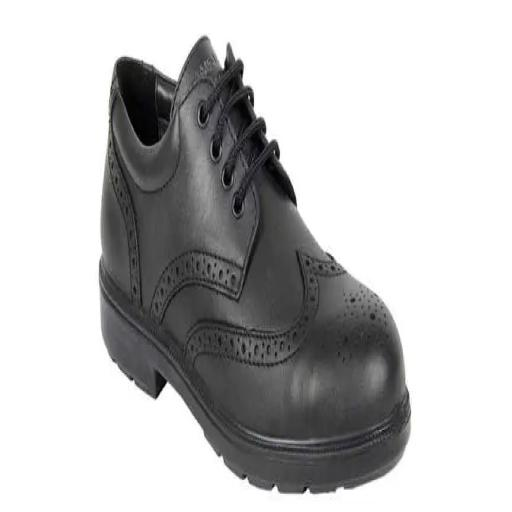safety_boots: (89, 33, 407, 510)
